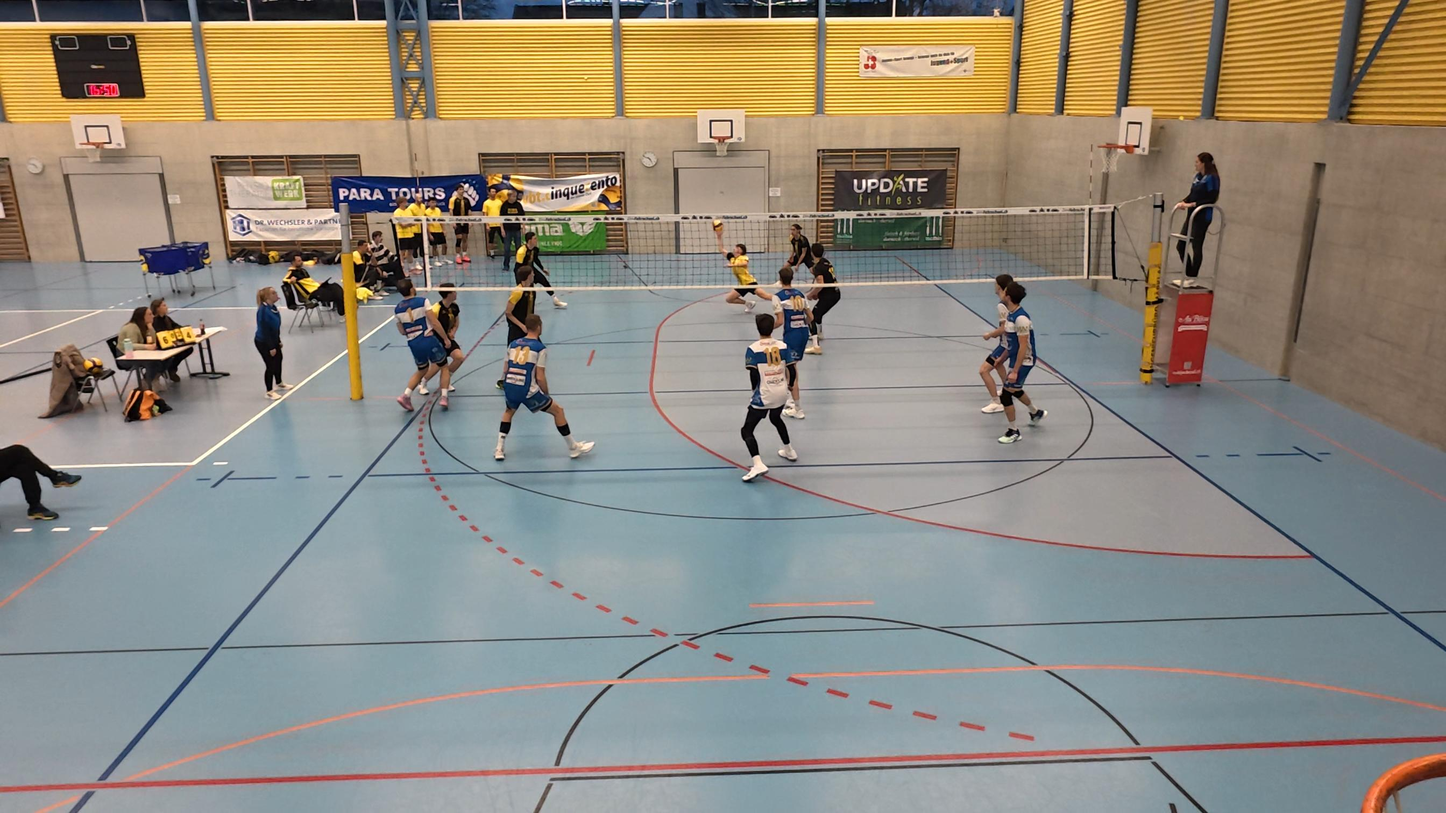Dig: (713, 220, 765, 316)
Player: (493, 325, 594, 461), (738, 316, 802, 482), (983, 300, 1046, 442), (395, 283, 459, 413), (764, 294, 816, 418), (984, 274, 1031, 407), (513, 236, 570, 310), (804, 238, 842, 344), (500, 273, 544, 355), (780, 217, 816, 283), (430, 273, 463, 338)
ball: (709, 216, 725, 235)
